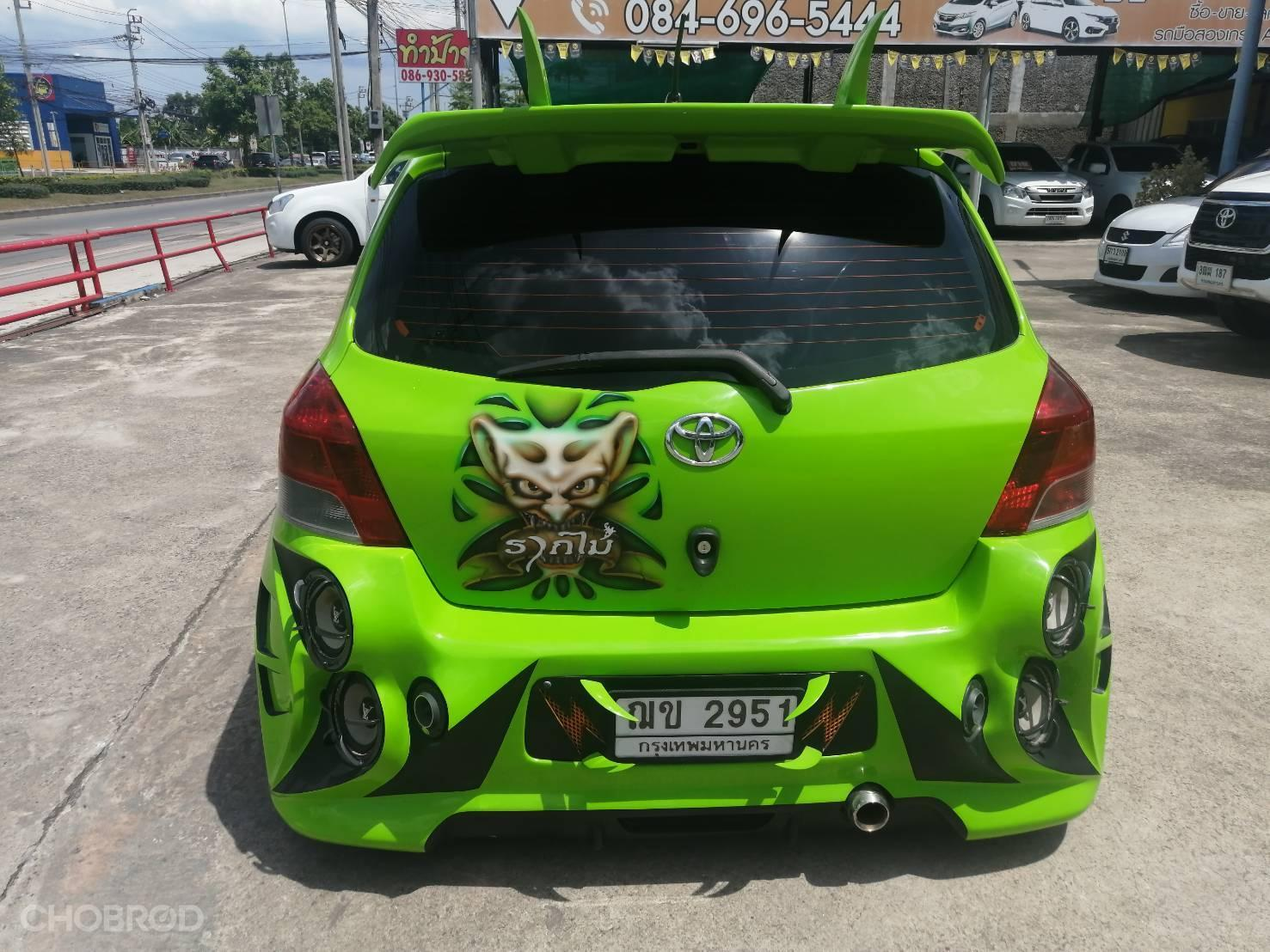license-plate: (608, 689, 807, 768)
